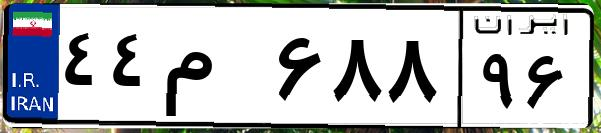4: (57, 26, 110, 100), (110, 28, 158, 98)
6: (270, 28, 330, 110), (525, 38, 570, 115)
8: (385, 28, 445, 110), (330, 28, 385, 110)
9: (475, 38, 525, 113)
م: (158, 20, 270, 120)
